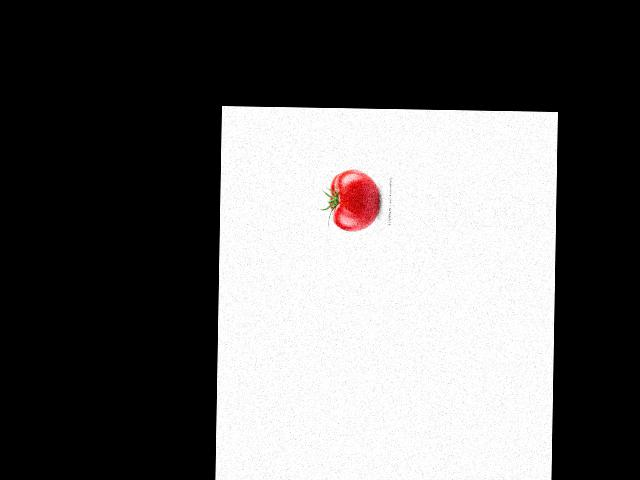tomato: (330, 169, 379, 232)
